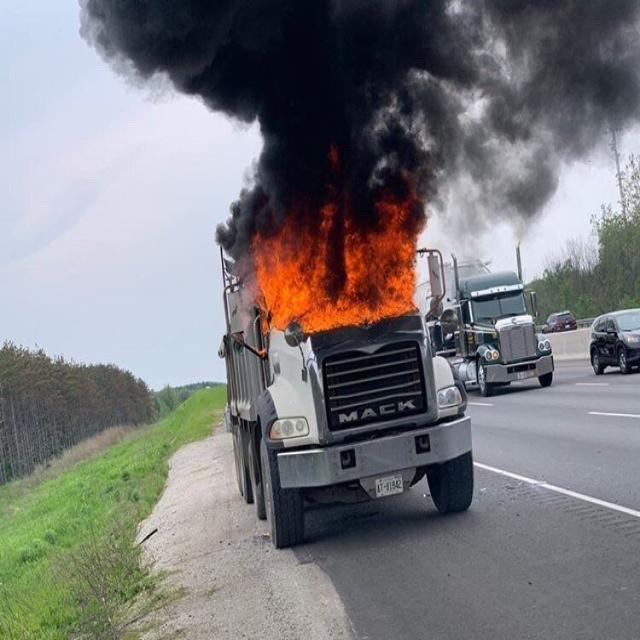Fire: (252, 182, 422, 334)
Smoke: (77, 0, 640, 259)
